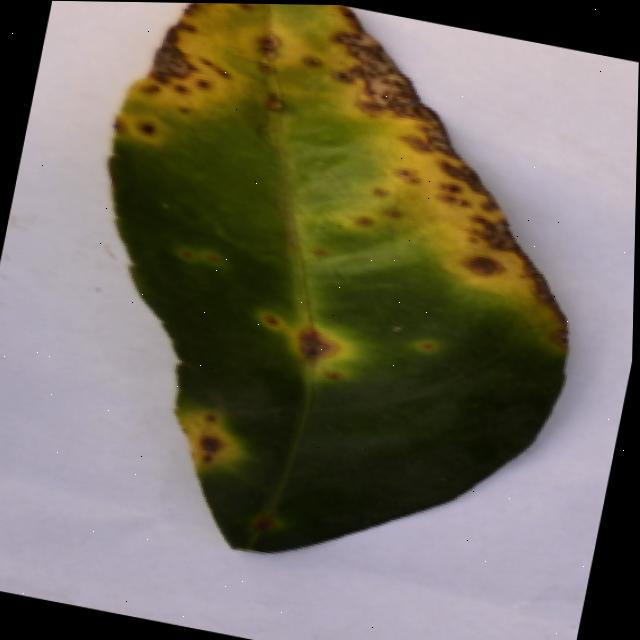canker: (112, 3, 567, 548), (257, 4, 630, 346), (108, 2, 320, 200), (242, 289, 373, 386), (176, 384, 268, 501), (160, 229, 233, 283), (233, 491, 290, 557)
